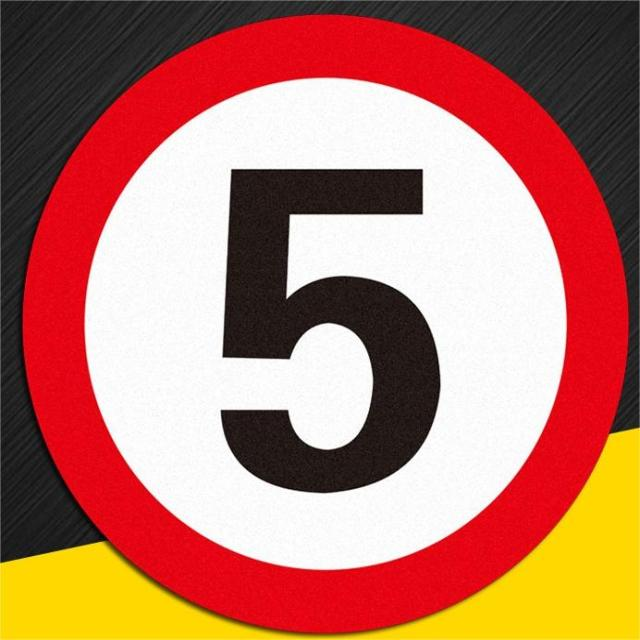speed limit 10: (21, 14, 631, 634)
